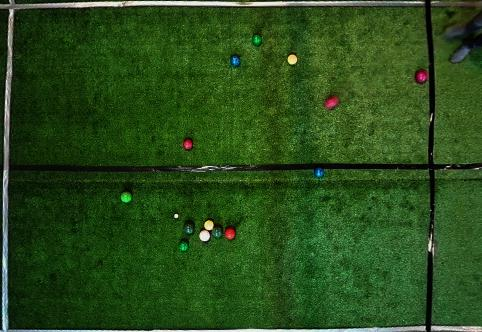blue: (230, 55, 241, 66), (314, 166, 324, 177)
green: (184, 222, 195, 235), (212, 226, 223, 239), (178, 240, 189, 252), (121, 192, 133, 203), (252, 34, 262, 47)
red: (324, 96, 338, 110), (415, 70, 427, 84), (224, 228, 236, 240), (199, 230, 210, 242), (183, 138, 193, 150)
vline: (426, 0, 481, 331), (0, 0, 18, 331)
white: (174, 214, 178, 218)
yellow: (204, 220, 214, 231), (287, 54, 297, 65)
